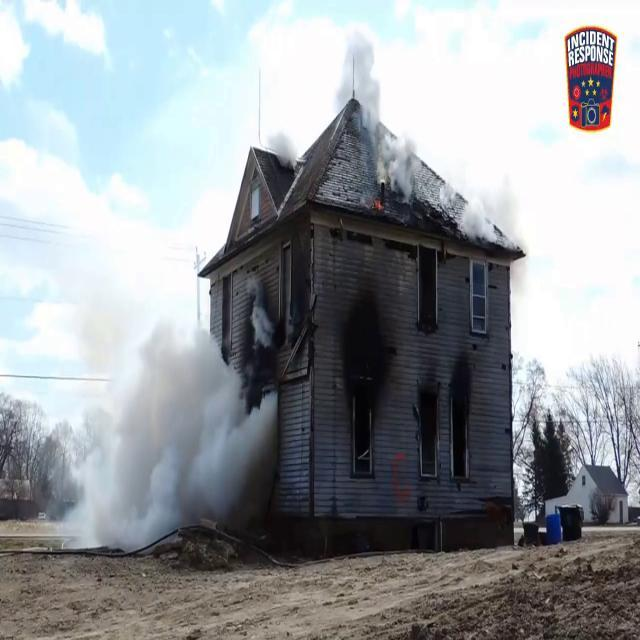Smoke: (0, 252, 268, 554), (334, 20, 414, 200)
